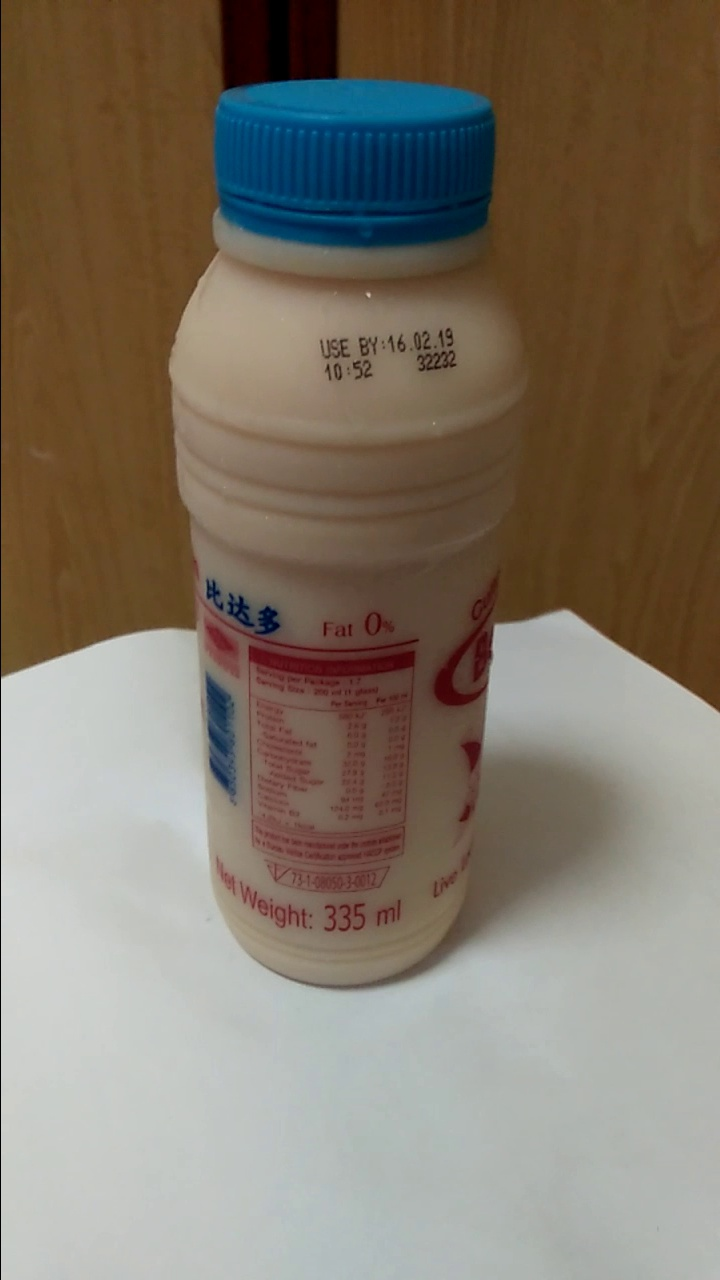mlik2: (186, 82, 492, 986)
